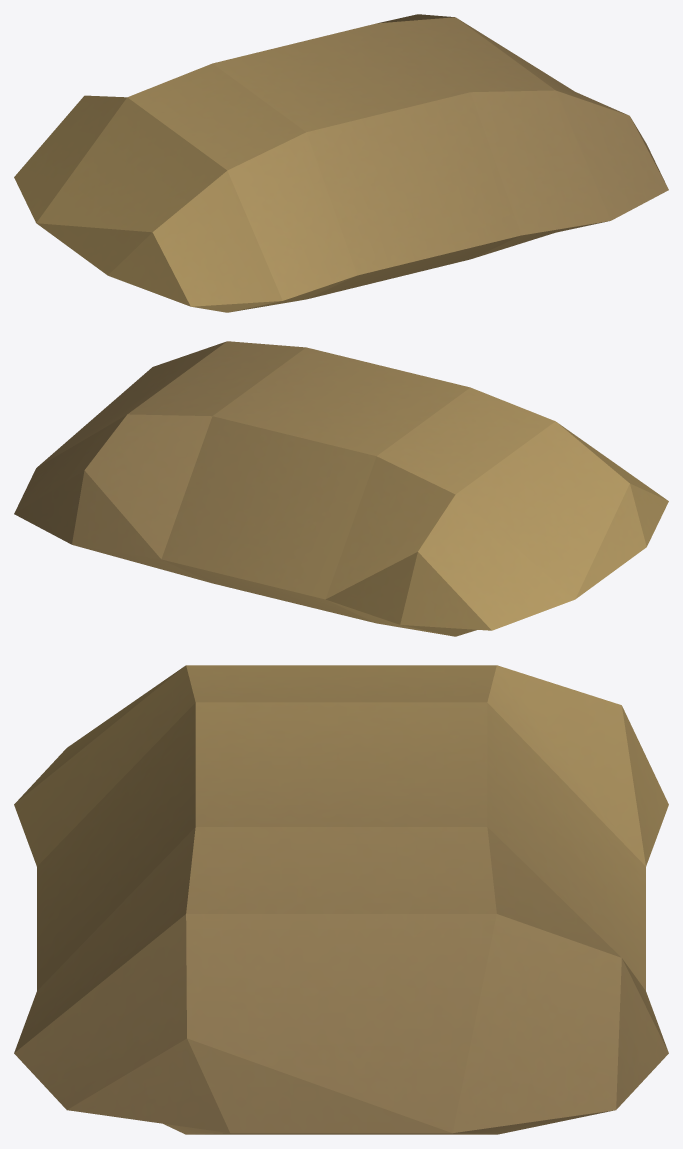
File: Sack_1A_LOD1.fbx
3 renders of one model, top to bottom at view 1: azimuth 30°, elevation 25°; view 2: azimuth 150°, elevation 25°; view 3: azimuth 270°, elevation 25°, orthographic. The views are drawn at different scales.
Parts seen in each view (by area): view 1: pCube2664; view 2: pCube2664; view 3: pCube2664.
Boxes of the visible parts, left/top/right/bottom form: pCube2664: left=14, top=14, right=668, bottom=312; pCube2664: left=14, top=341, right=668, bottom=636; pCube2664: left=14, top=665, right=668, bottom=1134.
Size of the model in its own units: 164 by 48.68 by 111.
